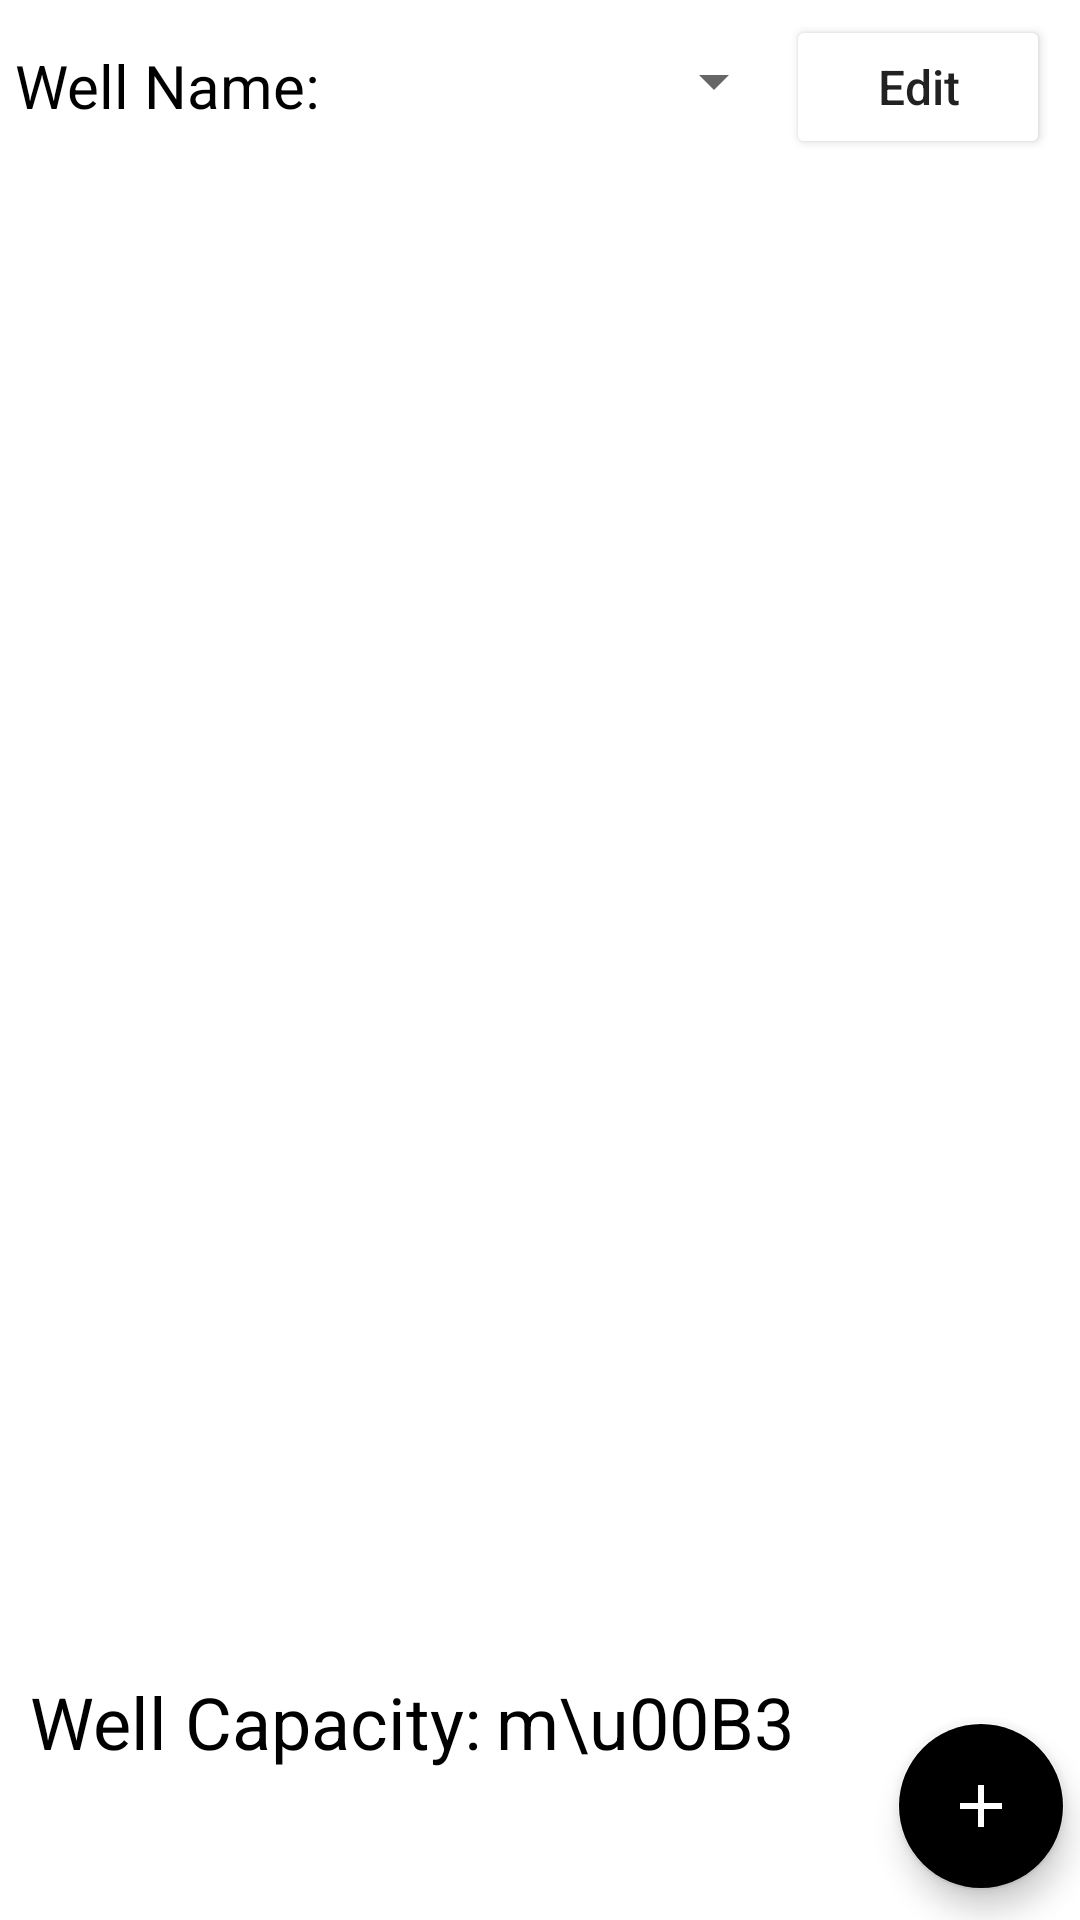

Screen size 1080×1920. Icon name, then its box in pixels as (x1, y1, x2, y2):
Add Well: (899, 1724, 1065, 1890)
